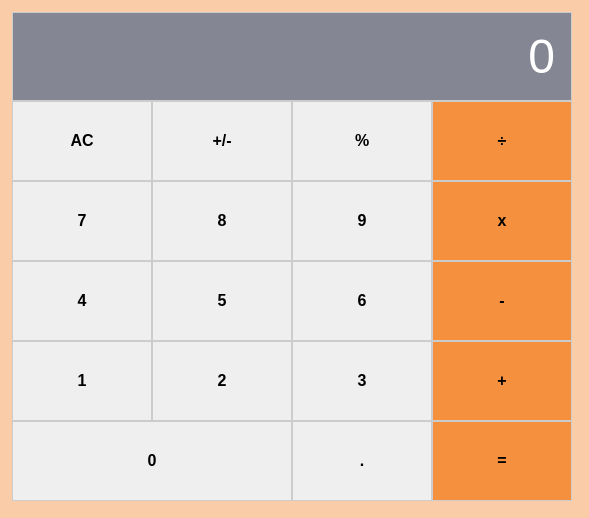
it: test with testing library › should work for negative
Click the button "8".
click(222, 221)  # box [152,181,292,261]
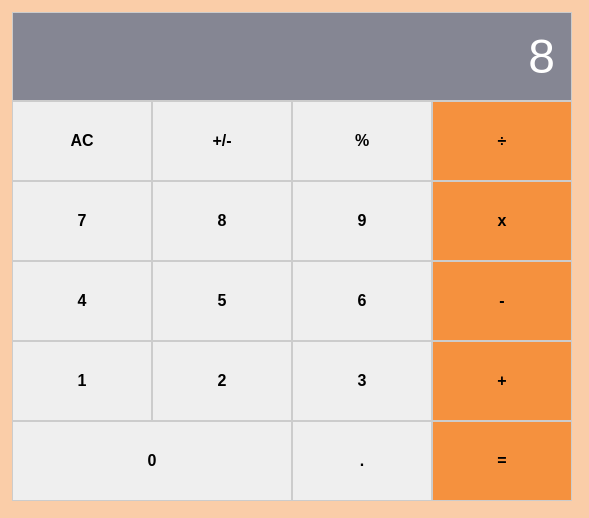
Click the button "+/-".
click(222, 141)  # box [152,101,292,181]
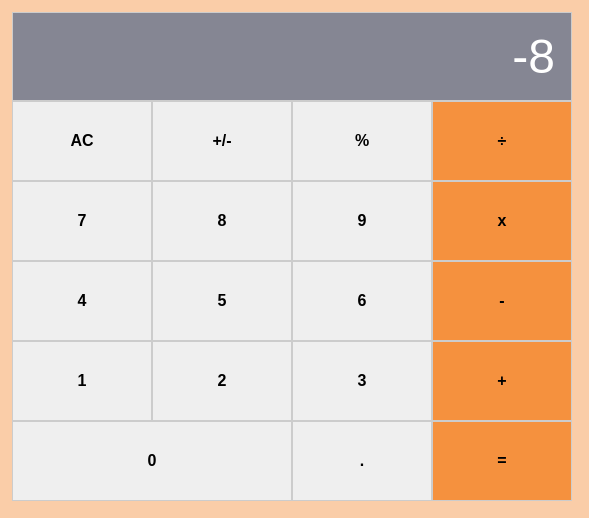
Result: the field holds "-8" at [12,12,572,101]
